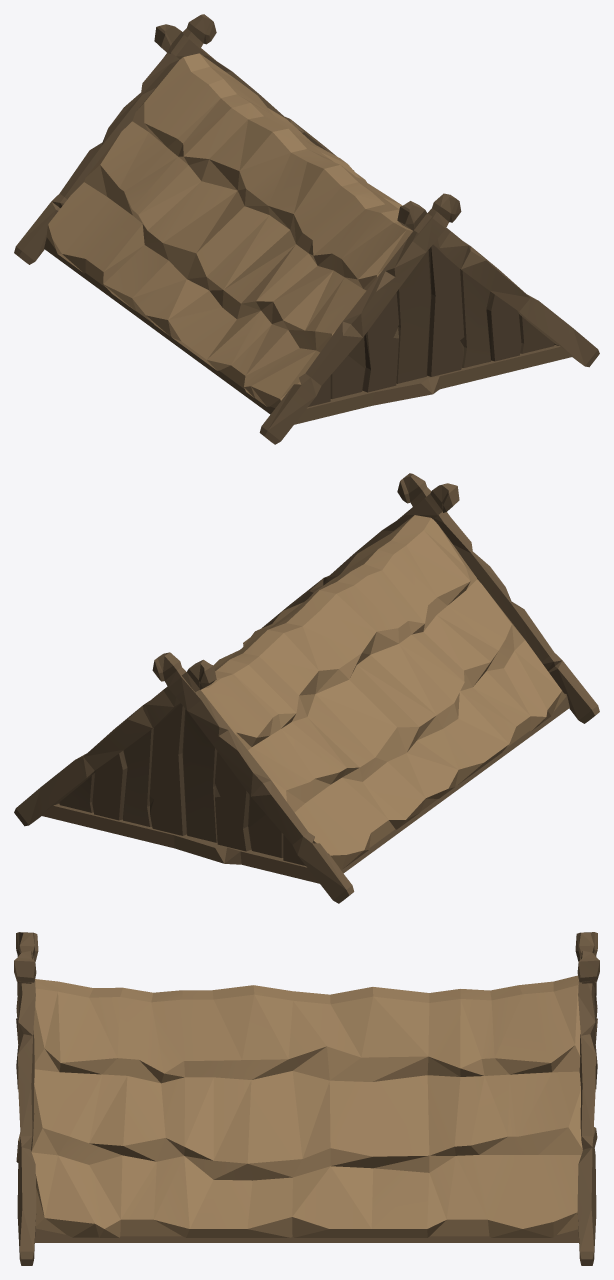
Rendered from Techo.glb.
3 renders of one model, top to bottom at view 1: azimuth 30°, elevation 25°; view 2: azimuth 150°, elevation 25°; view 3: azimuth 270°, elevation 25°, orthographic. The views are drawn at different scales.
Parts seen in each view (by area): view 1: SM_Bld_Roof_Long_01; view 2: SM_Bld_Roof_Long_01; view 3: SM_Bld_Roof_Long_01.
Boxes of the visible parts, left/top/right/bottom form: SM_Bld_Roof_Long_01: left=14, top=14, right=599, bottom=444; SM_Bld_Roof_Long_01: left=14, top=473, right=599, bottom=903; SM_Bld_Roof_Long_01: left=14, top=932, right=599, bottom=1265.
Size of the model in its own units: 5.28 by 3.08 by 6.93.
1 material, 1 textured.
